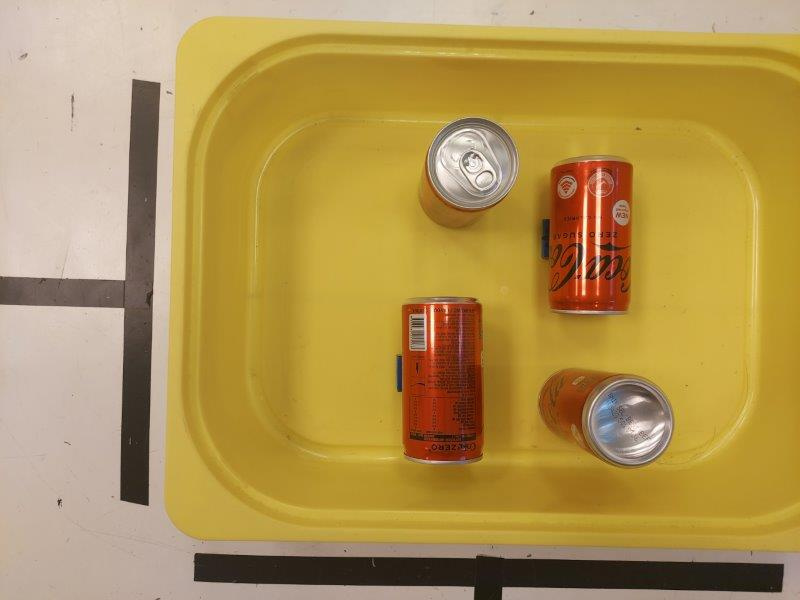Coke: (540, 368, 675, 470), (402, 295, 482, 464), (551, 157, 635, 316), (418, 120, 518, 228)
